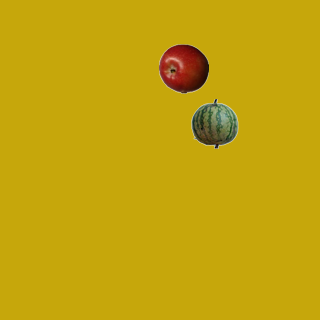Apple Braeburn: (158, 43, 208, 93)
Watermelon: (189, 98, 239, 148)
